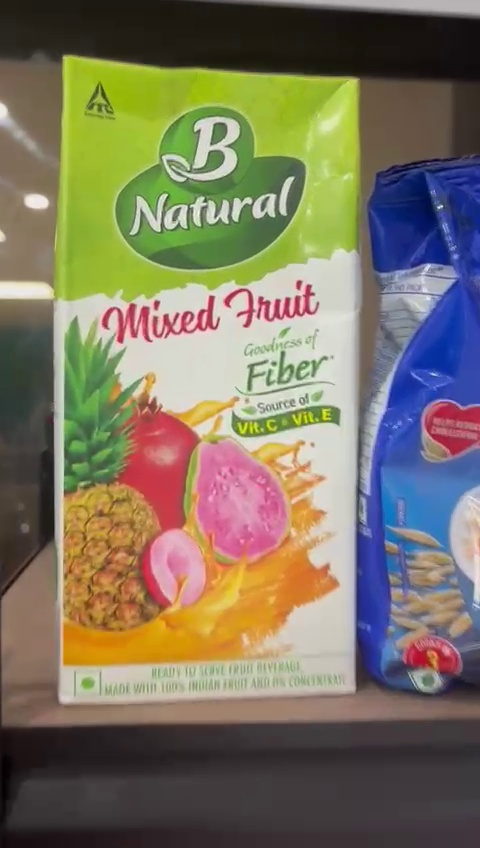Mixed Fruit: (55, 55, 359, 700)
